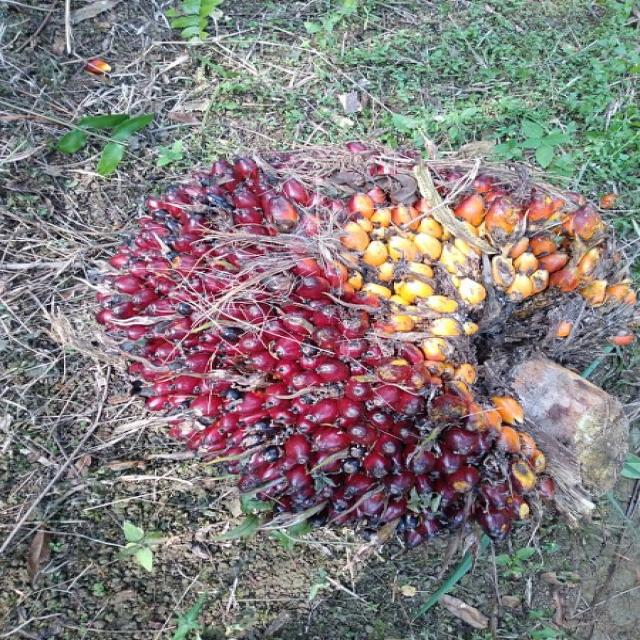fraksi 1: (64, 105, 634, 576)
